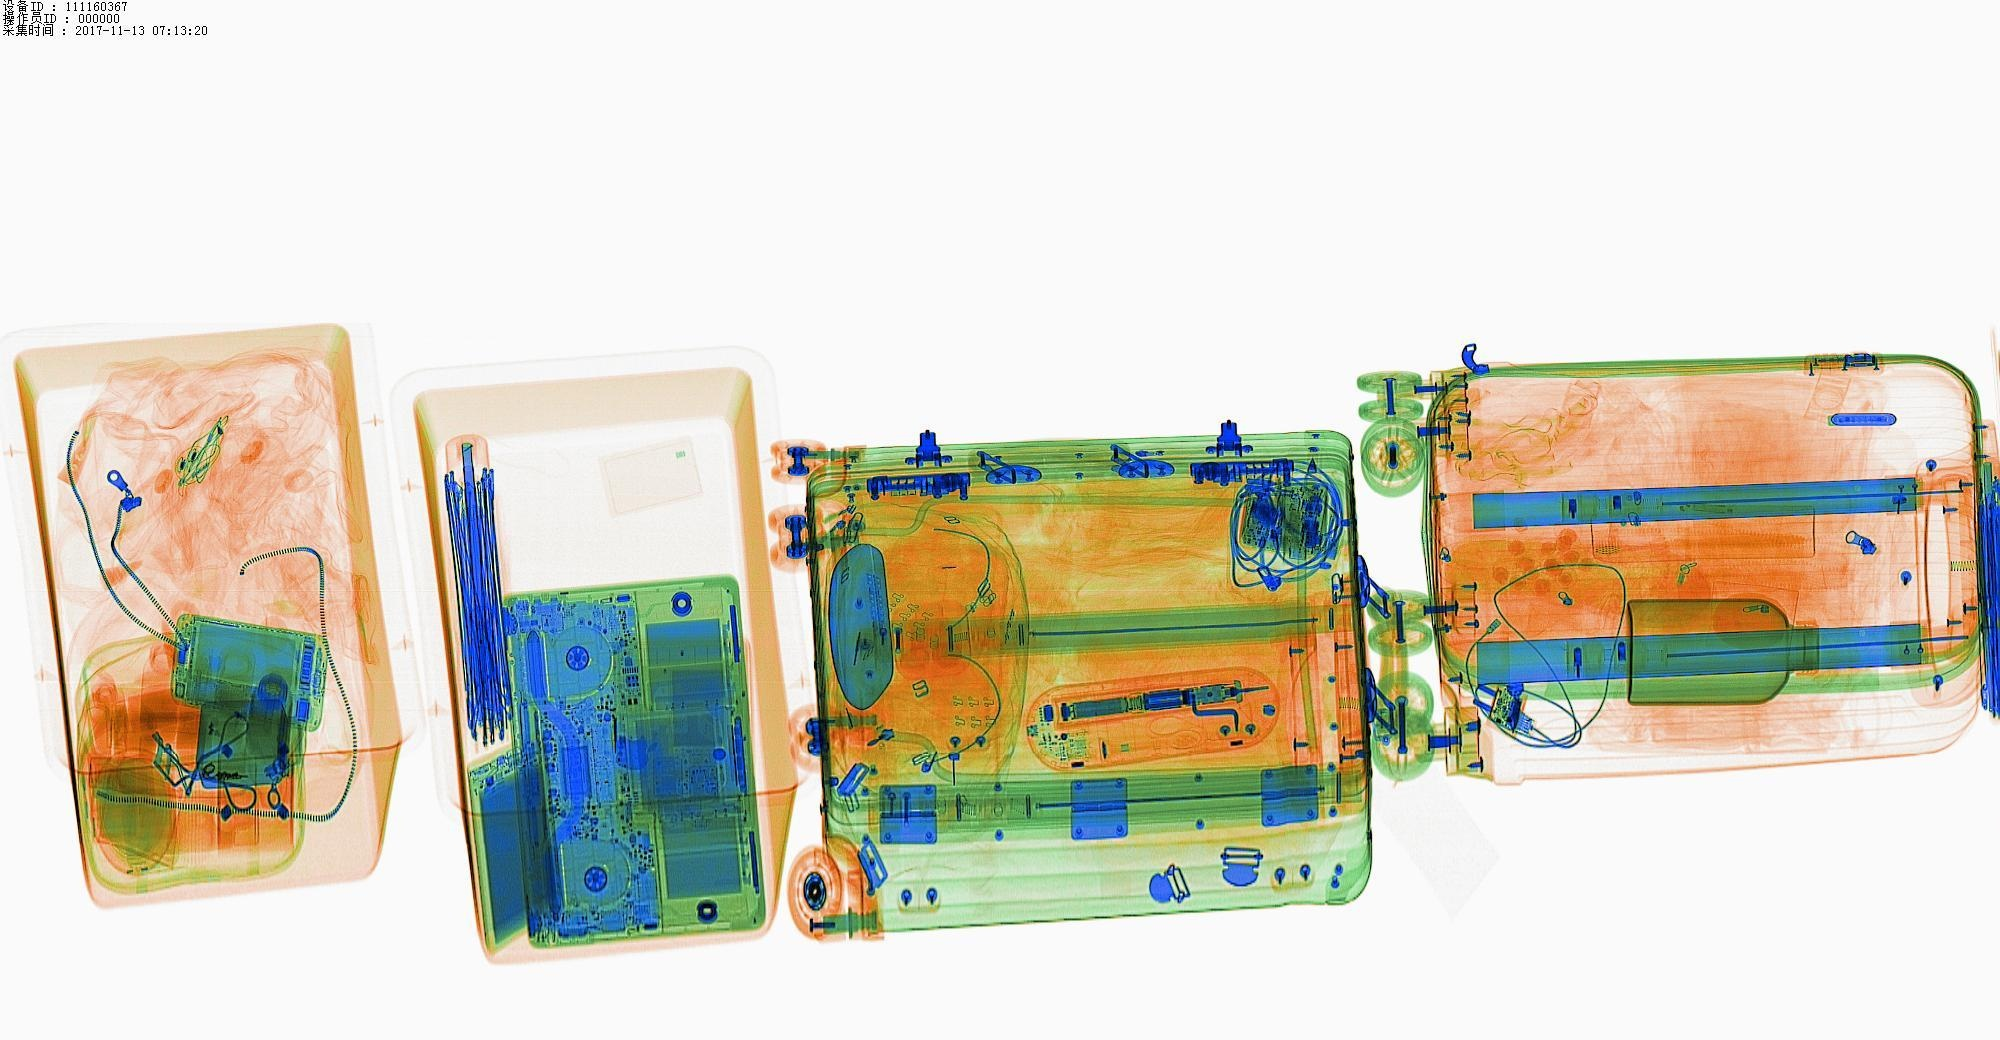coreless: (470, 759, 556, 929)
